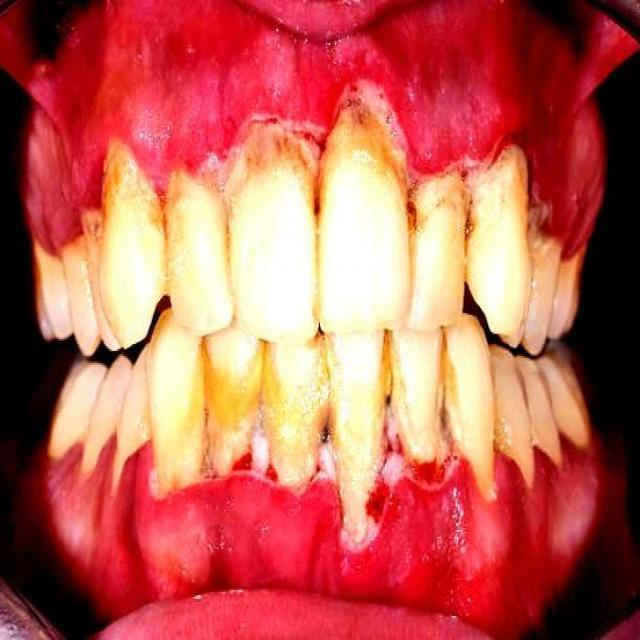CALCULUS: (352, 105, 431, 243), (104, 143, 197, 225), (261, 138, 328, 194), (207, 378, 263, 433), (461, 190, 483, 263), (380, 334, 400, 402)
